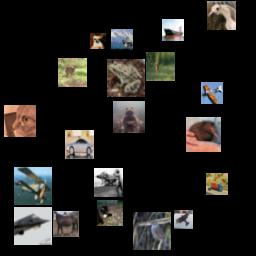airplane: (14, 167, 52, 205), (14, 207, 52, 245), (94, 168, 123, 197), (201, 82, 223, 104), (174, 210, 193, 229)
automobile: (65, 130, 94, 159)
bird: (133, 212, 171, 250), (186, 117, 221, 152)
cat: (4, 105, 36, 137), (97, 200, 123, 226)
deer: (58, 58, 87, 87), (146, 52, 175, 81), (111, 29, 133, 51)
dog: (90, 33, 106, 49)
frog: (107, 59, 145, 97), (113, 101, 145, 133)
ship: (162, 19, 184, 41)
truck: (206, 173, 228, 195)
